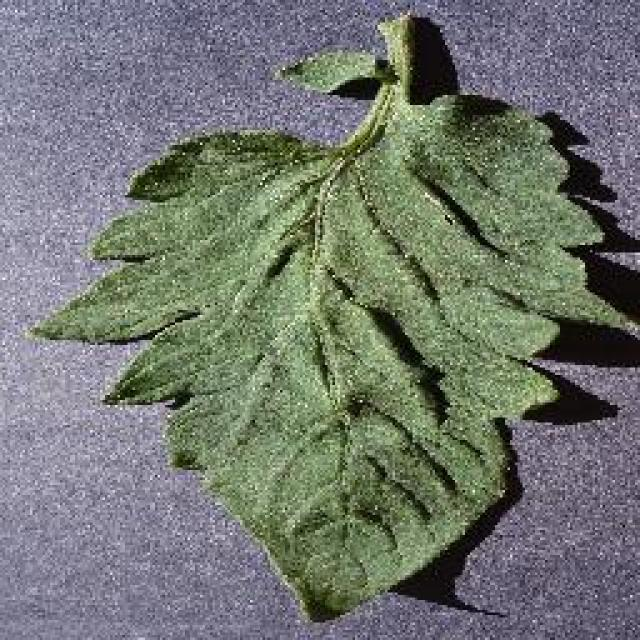Tomato___healthy: (25, 13, 638, 622)
